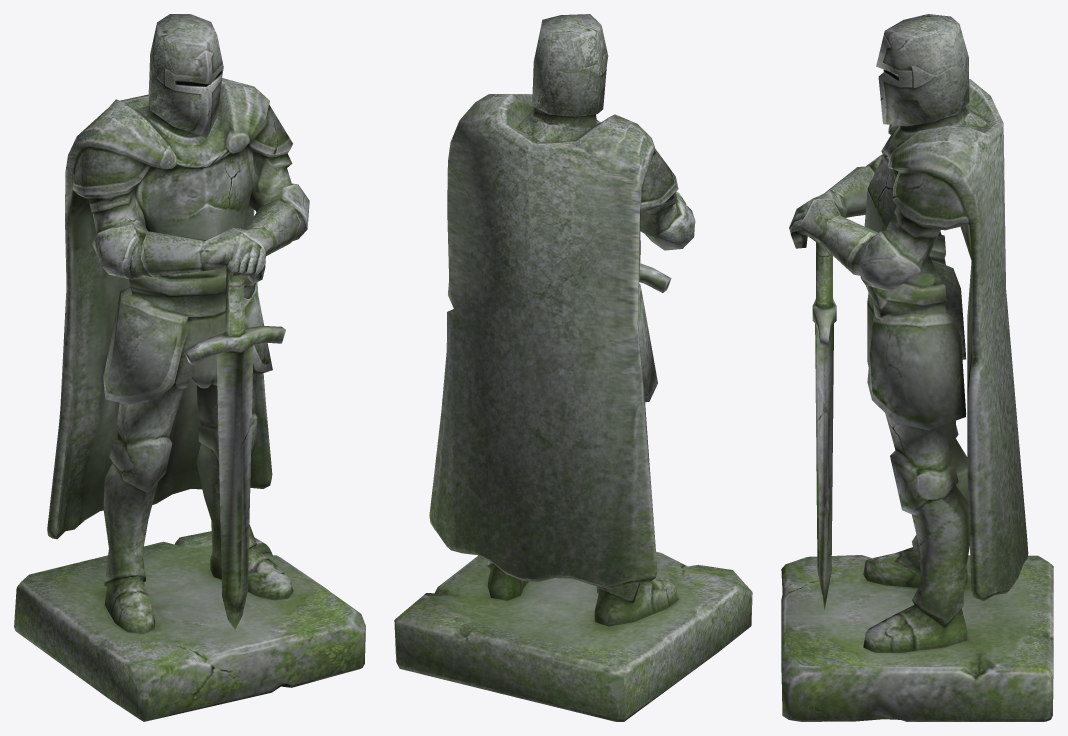
Rendered from statua.fbx.
3 views of the same model, side by side, from view 1: azimuth 30°, elevation 25°; view 2: azimuth 150°, elevation 25°; view 3: azimuth 270°, elevation 25° (orthographic). The views are drawn at different scales.
Parts seen in each view (by area): view 1: tripo_node_8784d00f; view 2: tripo_node_8784d00f; view 3: tripo_node_8784d00f.
Part boxes in pixels (x1,y1,x2,y2): tripo_node_8784d00f: (14,14,365,721); tripo_node_8784d00f: (394,14,752,721); tripo_node_8784d00f: (781,14,1053,721).
Bounding box in the file's own units: 0.3843 × 0.9995 × 0.3833.
1 material, 1 textured.
